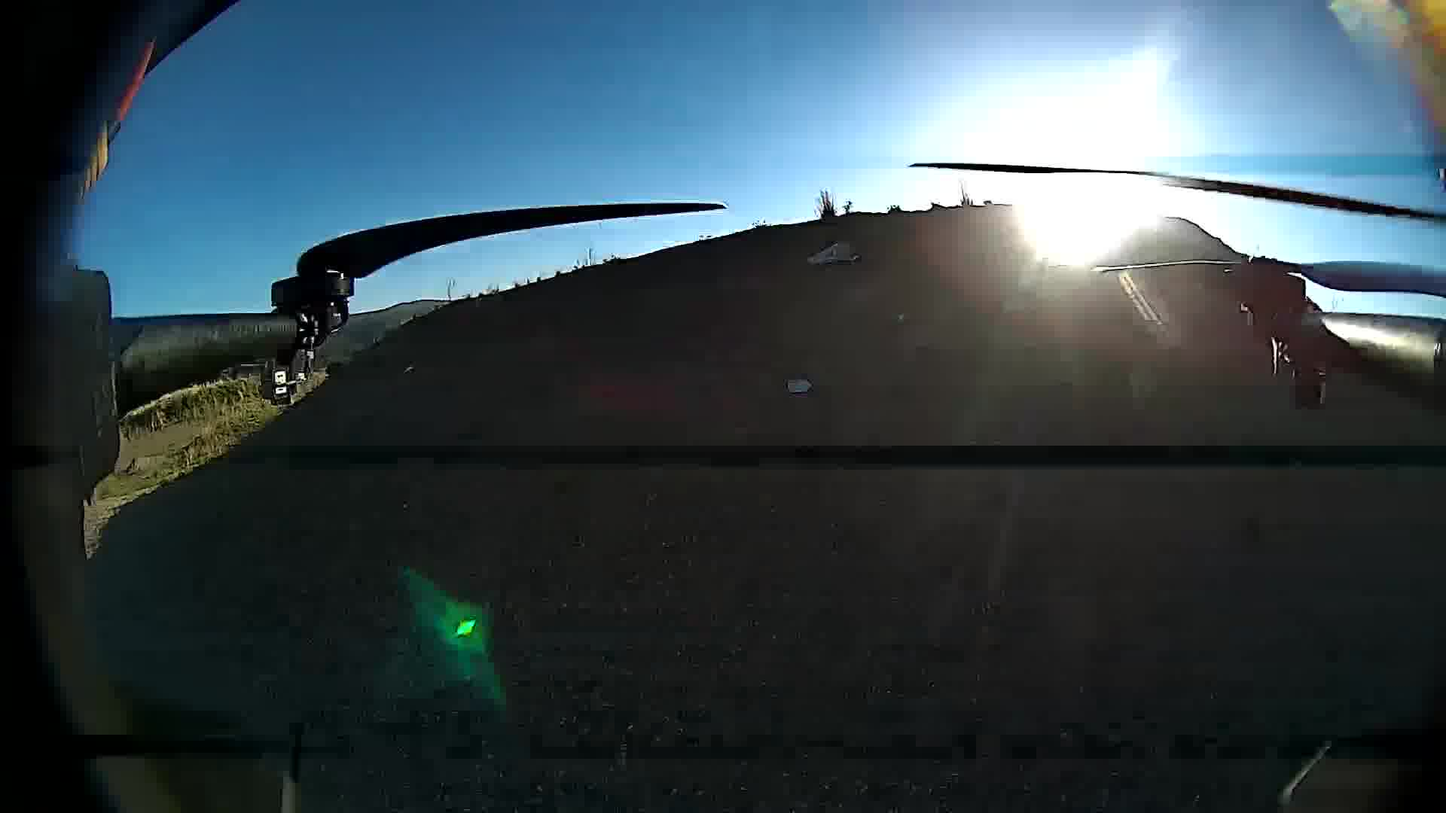Target: (784, 377, 814, 394)
